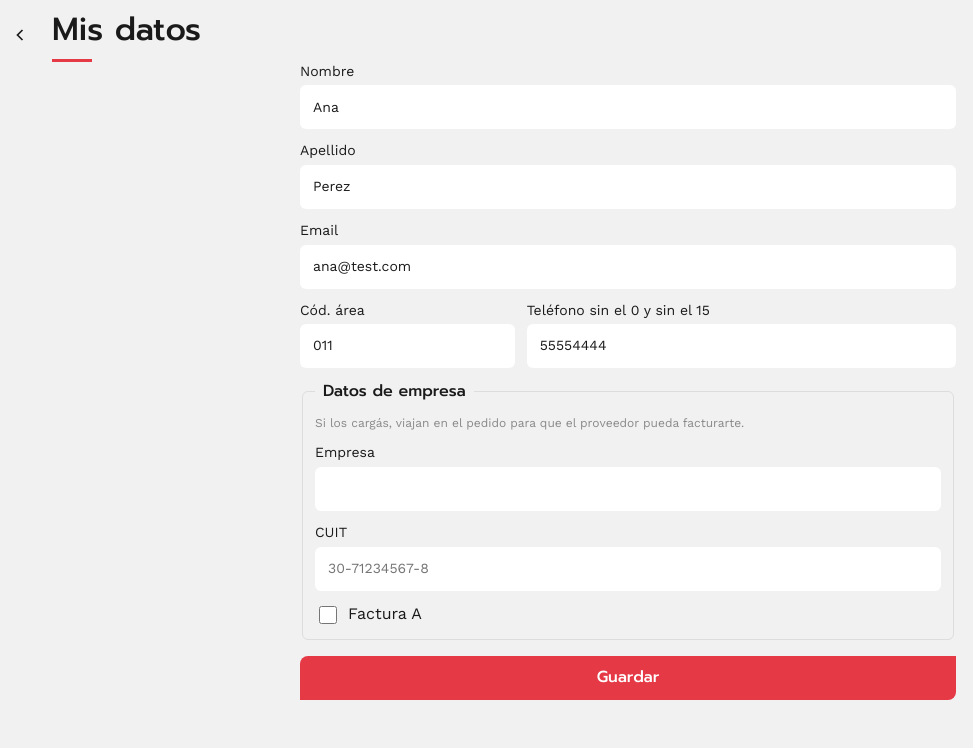
it: DetalleUsuario: datos de empresa › no guarda un CUIT incompleto y dice por qué
Type "3071" into the field labelled "CUIT" at (628, 568), box [315,546,941,590]
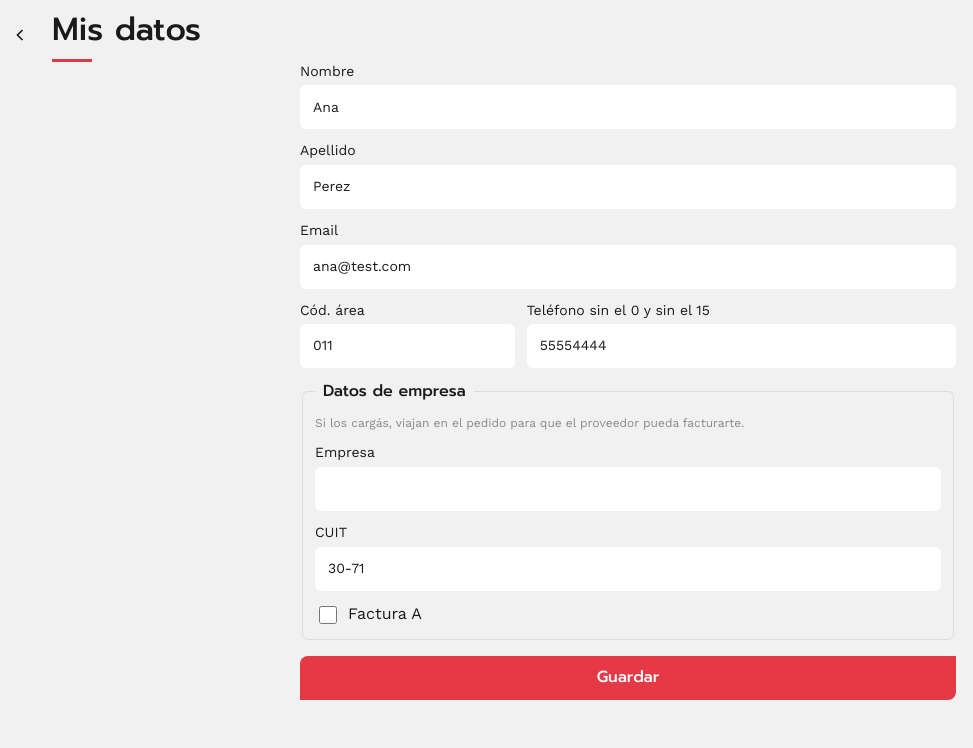
Click the button "Guardar" at (628, 678), box [300,656,956,700]
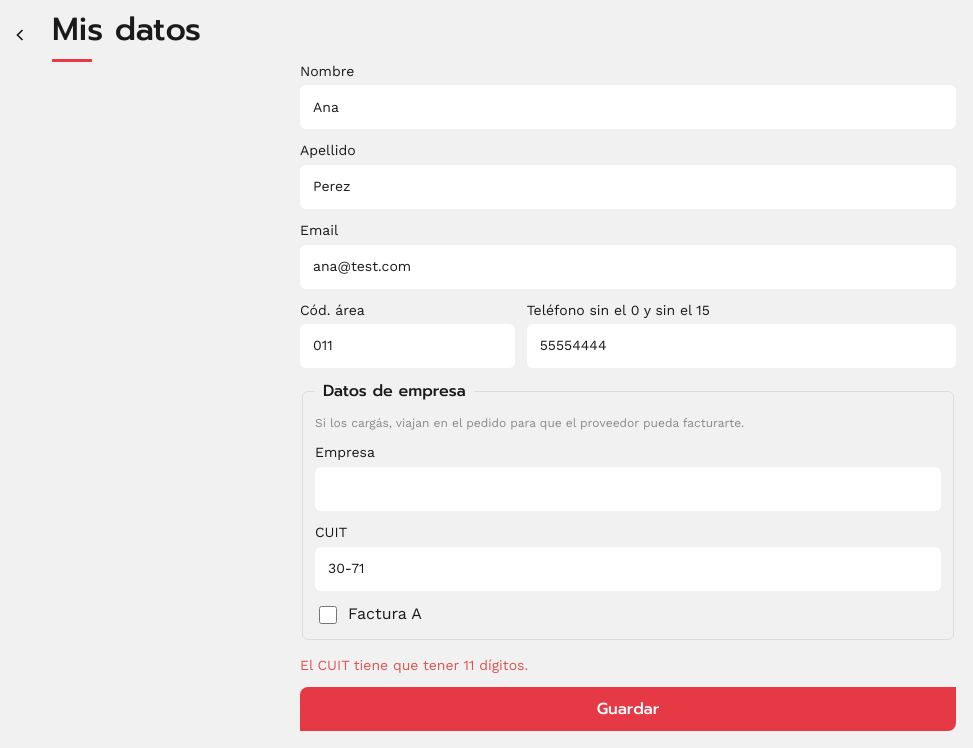
Expected: the message shows "11 dígitos", [300,656,528,672]
